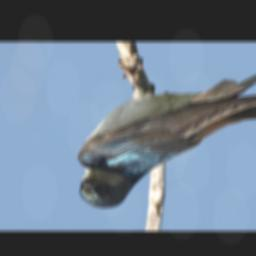Swallow: (77, 54, 256, 208)
